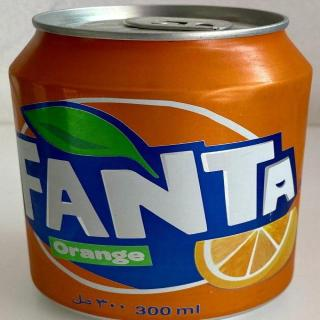Anorganik: (8, 0, 310, 320)
